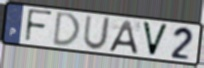2: (169, 25, 196, 62)
A: (107, 19, 139, 55)
D: (51, 11, 82, 48)
F: (24, 8, 54, 44)
U: (82, 15, 112, 52)
V: (141, 20, 170, 58)
